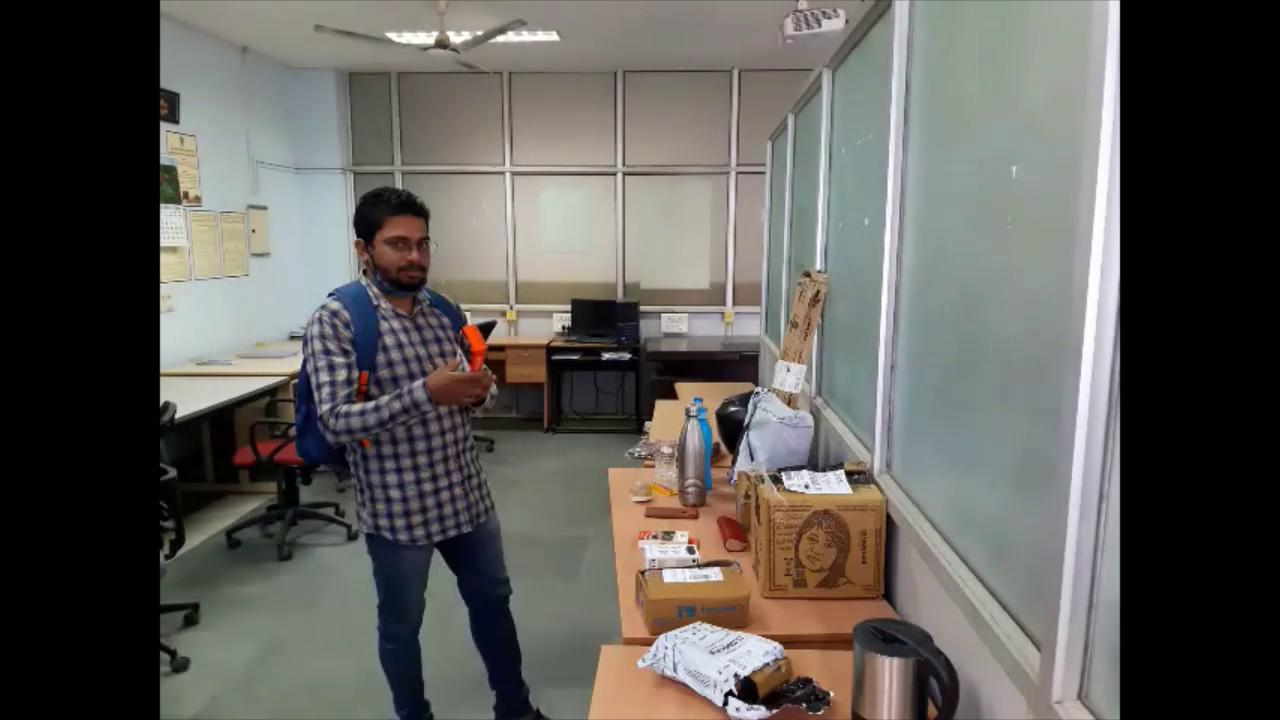Normal: (290, 167, 534, 719)
